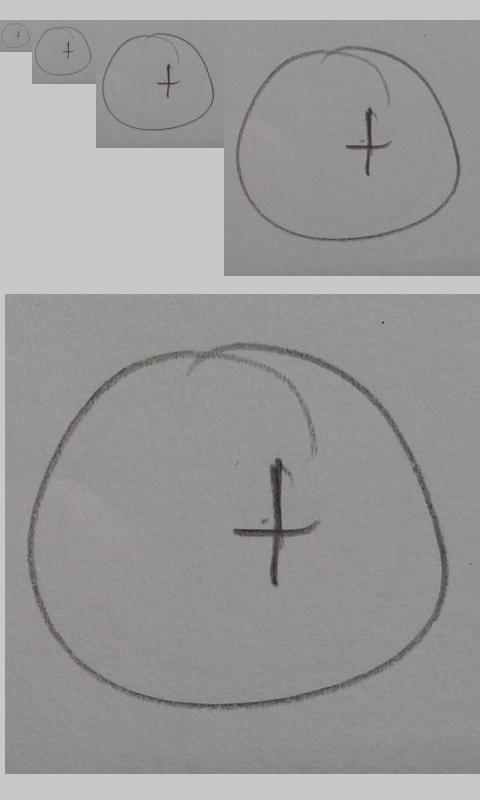button: (25, 339, 451, 712), (235, 44, 463, 243), (101, 32, 215, 132), (34, 25, 92, 77), (1, 23, 31, 49)
